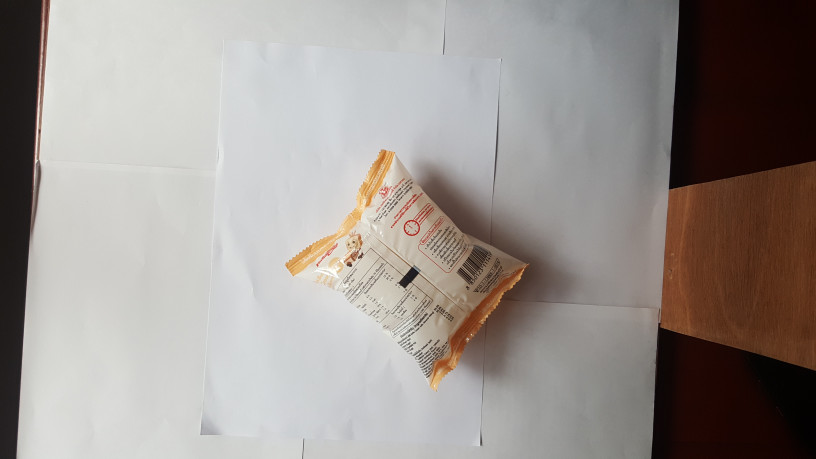farmhouse-sweetsandwich-almond: (274, 149, 533, 392)
